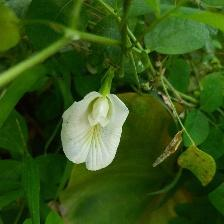shankupushpam: (61, 91, 133, 173)
